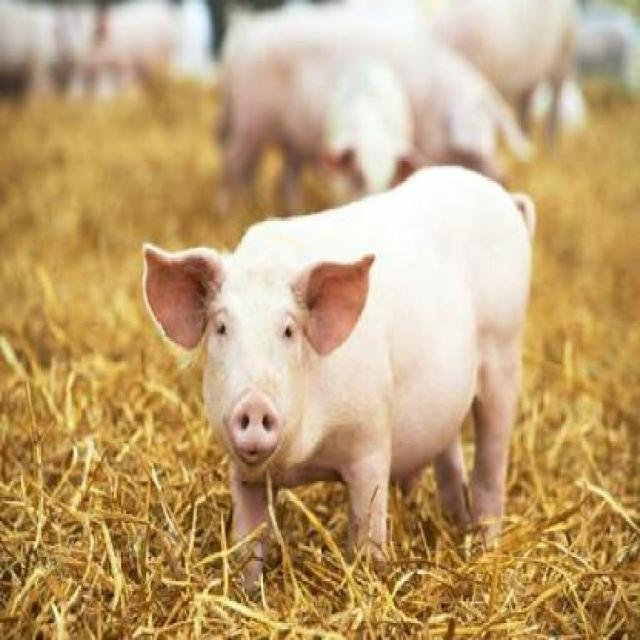pig: (145, 168, 535, 544)
